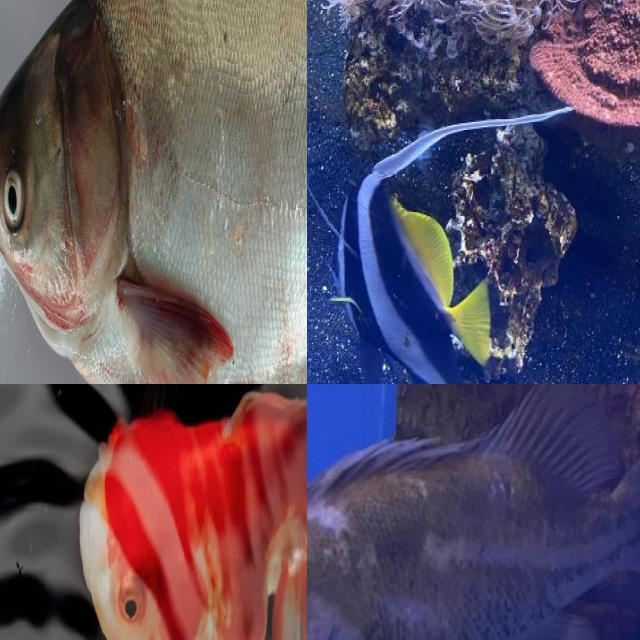fish: (0, 0, 307, 384), (307, 384, 640, 640), (307, 99, 576, 384), (0, 384, 147, 640)
